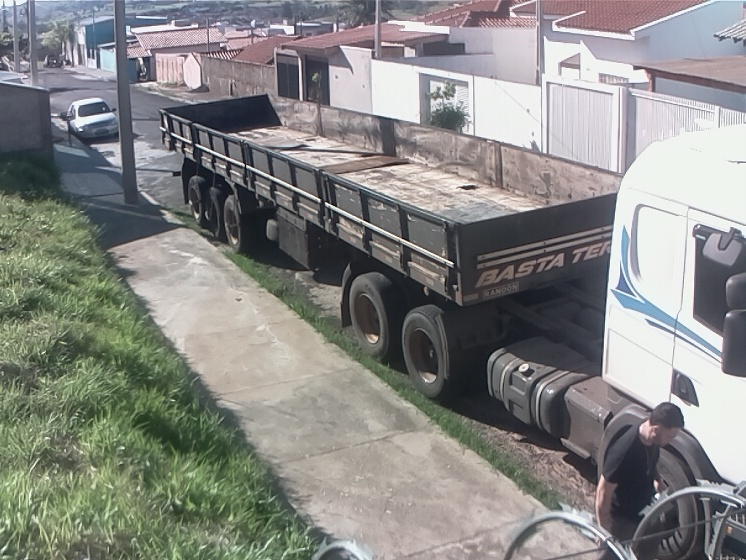person: (592, 401, 687, 560)
